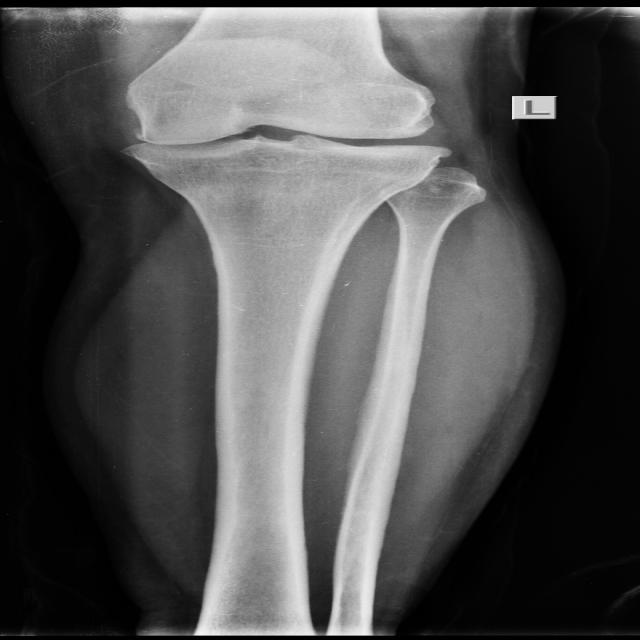normal: (124, 71, 452, 181)
